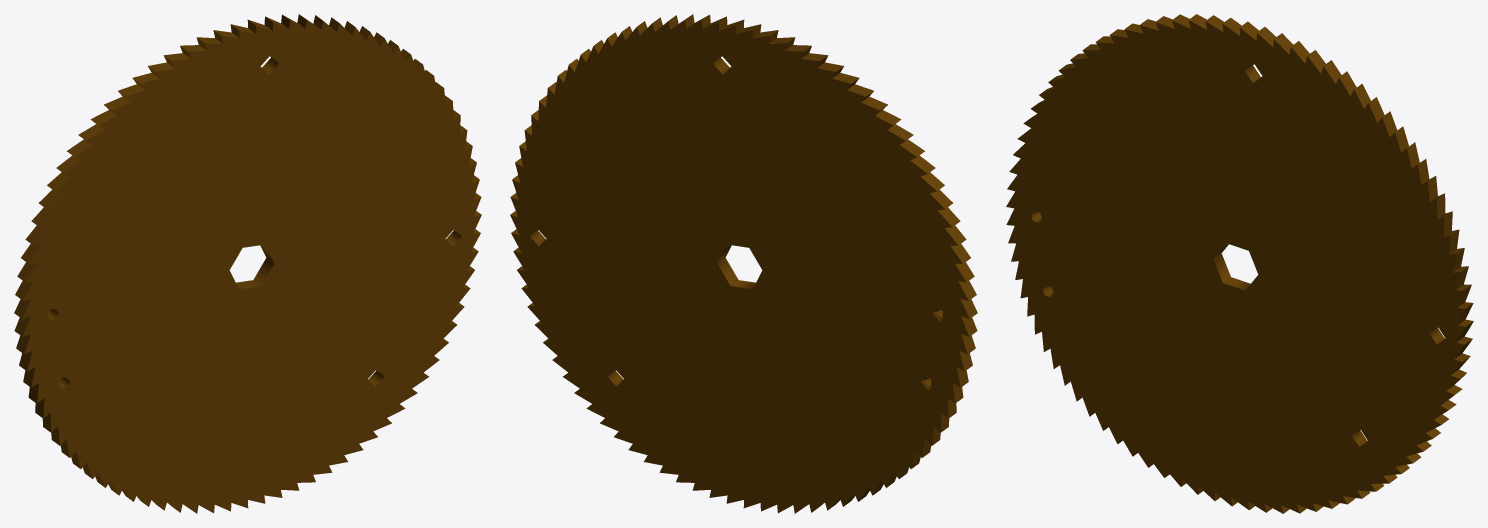
Rendered from Roue etoile anti-retour barillet.obj.
The picture shows the model from 3 angles, left to right: view 1: azimuth 30°, elevation 25°; view 2: azimuth 150°, elevation 25°; view 3: azimuth 330°, elevation 25°; orthographic projection.
Parts seen in each view (by area): view 1: Face_1, Face_171; view 2: Face_2, Face_171; view 3: Face_1.
Boxes of the visible parts, box(x1,y1,x2,y2) form: Face_1: box(22, 20, 481, 513); Face_171: box(236, 244, 274, 289); Face_2: box(510, 20, 969, 513); Face_171: box(717, 244, 755, 289); Face_1: box(1006, 20, 1465, 513).
Size of the model in its own units: 0.0715 by 0.0715 by 0.0022.
